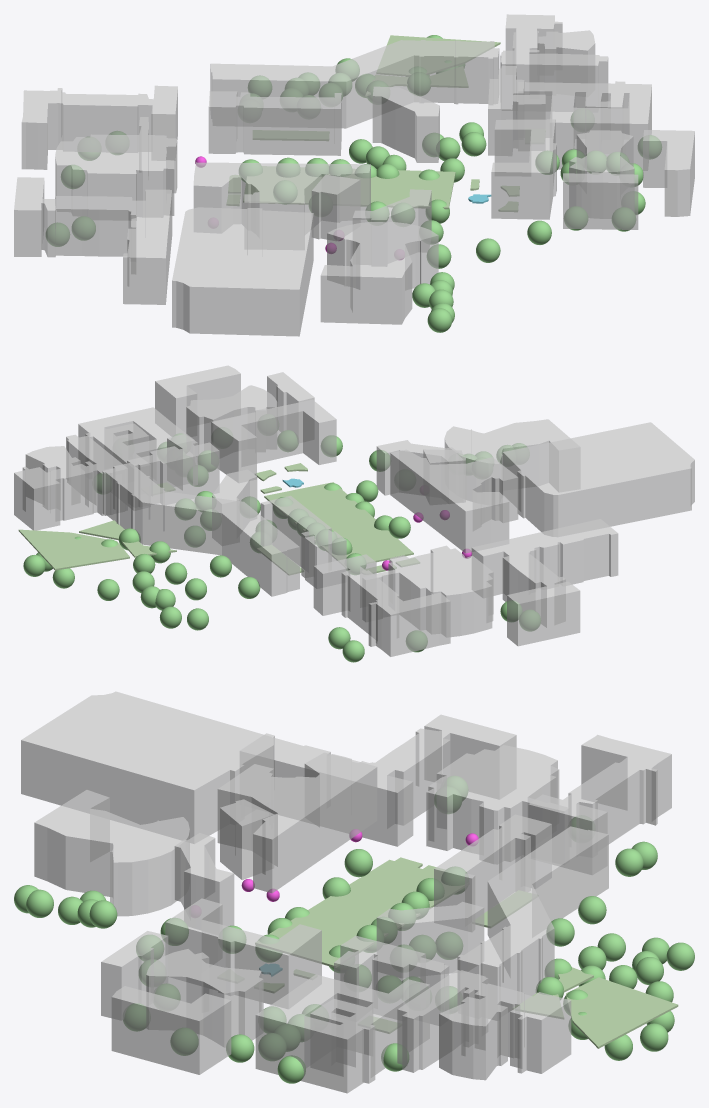
The picture shows the model from 3 angles, top to bottom: view 1: azimuth 30°, elevation 25°; view 2: azimuth 150°, elevation 25°; view 3: azimuth 270°, elevation 25°; orthographic projection. The views are drawn at different scales.
Visible parts, largest first — view 1: Digitized Buildings, Trees, Green_Spaces; view 2: Digitized Buildings, Trees, Green_Spaces; view 3: Digitized Buildings, Trees, Green_Spaces.
Boxes of the visible parts, x1=… form: Digitized Buildings: x1=14, y1=14, x2=694, y2=336; Trees: x1=46, y1=35, x2=661, y2=332; Green_Spaces: x1=226, y1=35, x2=545, y2=211; Digitized Buildings: x1=14, y1=365, x2=694, y2=656; Trees: x1=23, y1=429, x2=540, y2=662; Green_Spaces: x1=18, y1=463, x2=419, y2=575; Digitized Buildings: x1=21, y1=691, x2=671, y2=1093; Trees: x1=14, y1=776, x2=694, y2=1083; Green_Spaces: x1=255, y1=857, x2=678, y2=1048.
Bounding box in the file's own units: 360 × 49.21 × 308.
